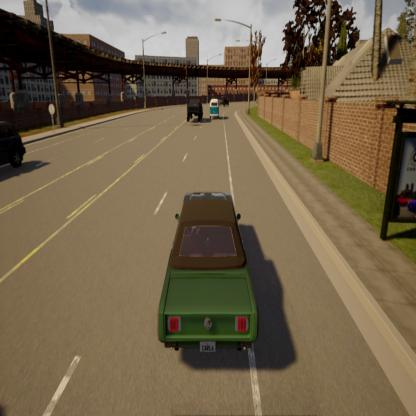Cars: (146, 184, 266, 366), (0, 104, 32, 177), (184, 96, 205, 126), (207, 97, 220, 121), (218, 94, 232, 108)
